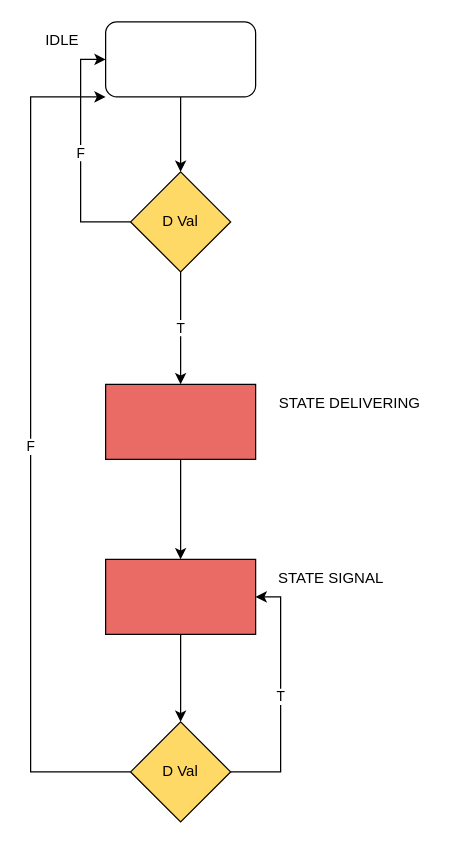
The diagram is 459 pixels wide and 844 high, and some of its shapes have lost their labels. The centre of each missing label's shape, as x and y in pixels:
"done" goes at [180,596].
"Wrl D out => D in" goes at [180,421].
